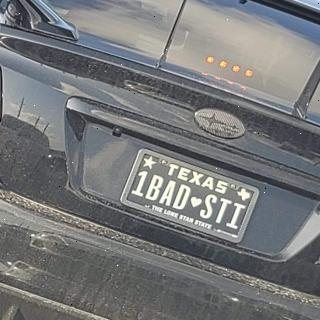license: (119, 149, 262, 246)
